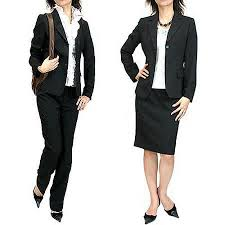F_W_pants: (25, 81, 84, 216)
F_W_suit jacket: (119, 13, 207, 105), (36, 11, 104, 97)
F_tailored skirt: (131, 81, 183, 157)
